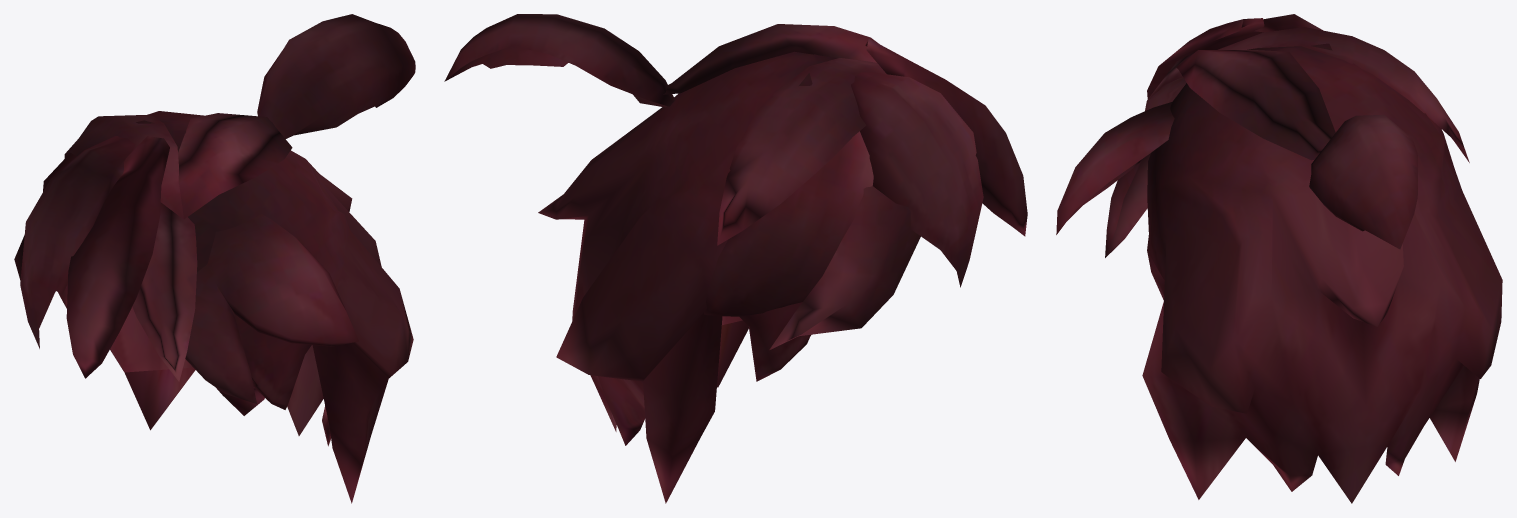
The model's file is Head3.fbx.
The picture shows the model from 3 angles, left to right: view 1: azimuth 30°, elevation 25°; view 2: azimuth 150°, elevation 25°; view 3: azimuth 270°, elevation 25°; orthographic projection. The views are drawn at different scales.
Parts seen in each view (by area): view 1: Hair05; view 2: Hair05; view 3: Hair05.
Part boxes in pixels (bbox=[...]): Hair05: bbox=[14, 14, 415, 503]; Hair05: bbox=[444, 14, 1027, 503]; Hair05: bbox=[1056, 14, 1502, 503].
Size of the model in its own units: 2.43 by 2.07 by 2.05.
Materials: 1 (1 with a texture image).
